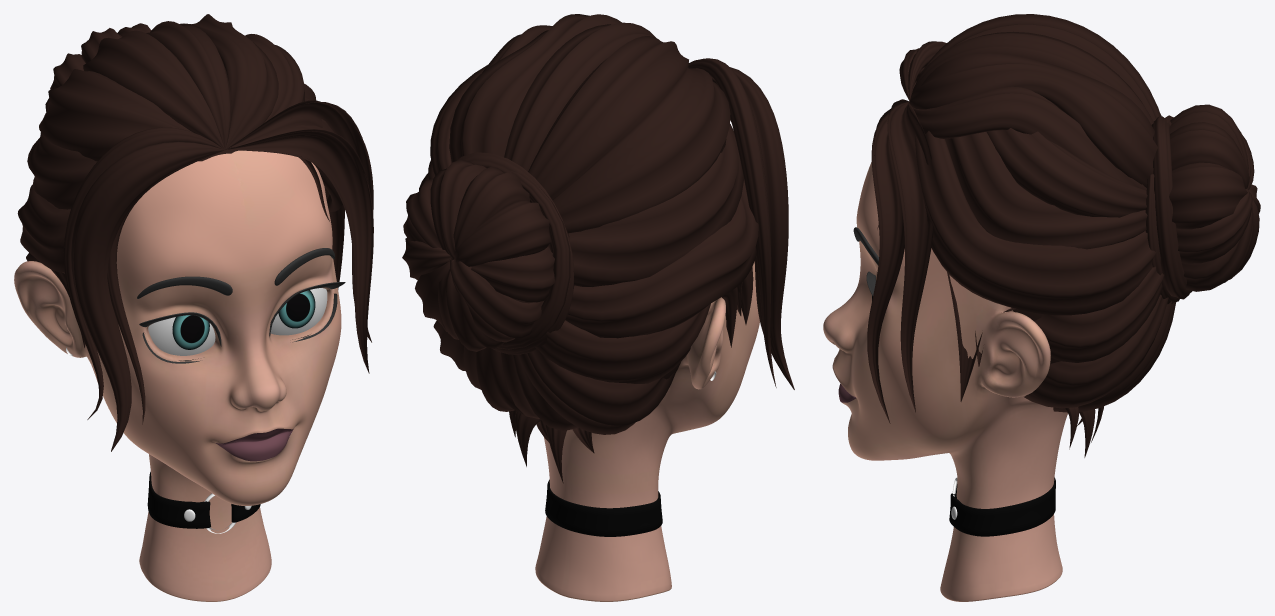
3 renders of one model, left to right at view 1: azimuth 30°, elevation 25°; view 2: azimuth 150°, elevation 25°; view 3: azimuth 270°, elevation 25°, orthographic. The views are drawn at different scales.
Visible parts, largest first — view 1: Hair_main; view 2: Hair_main; view 3: Hair_main.
Boxes of the visible parts, <box> form: Hair_main: <box>14,14,373,601</box>; Hair_main: <box>402,14,794,601</box>; Hair_main: <box>823,14,1260,601</box>.
Size of the model in its own units: 1.43 by 2.42 by 1.74.
Materials: 8 (2 with a texture image).
